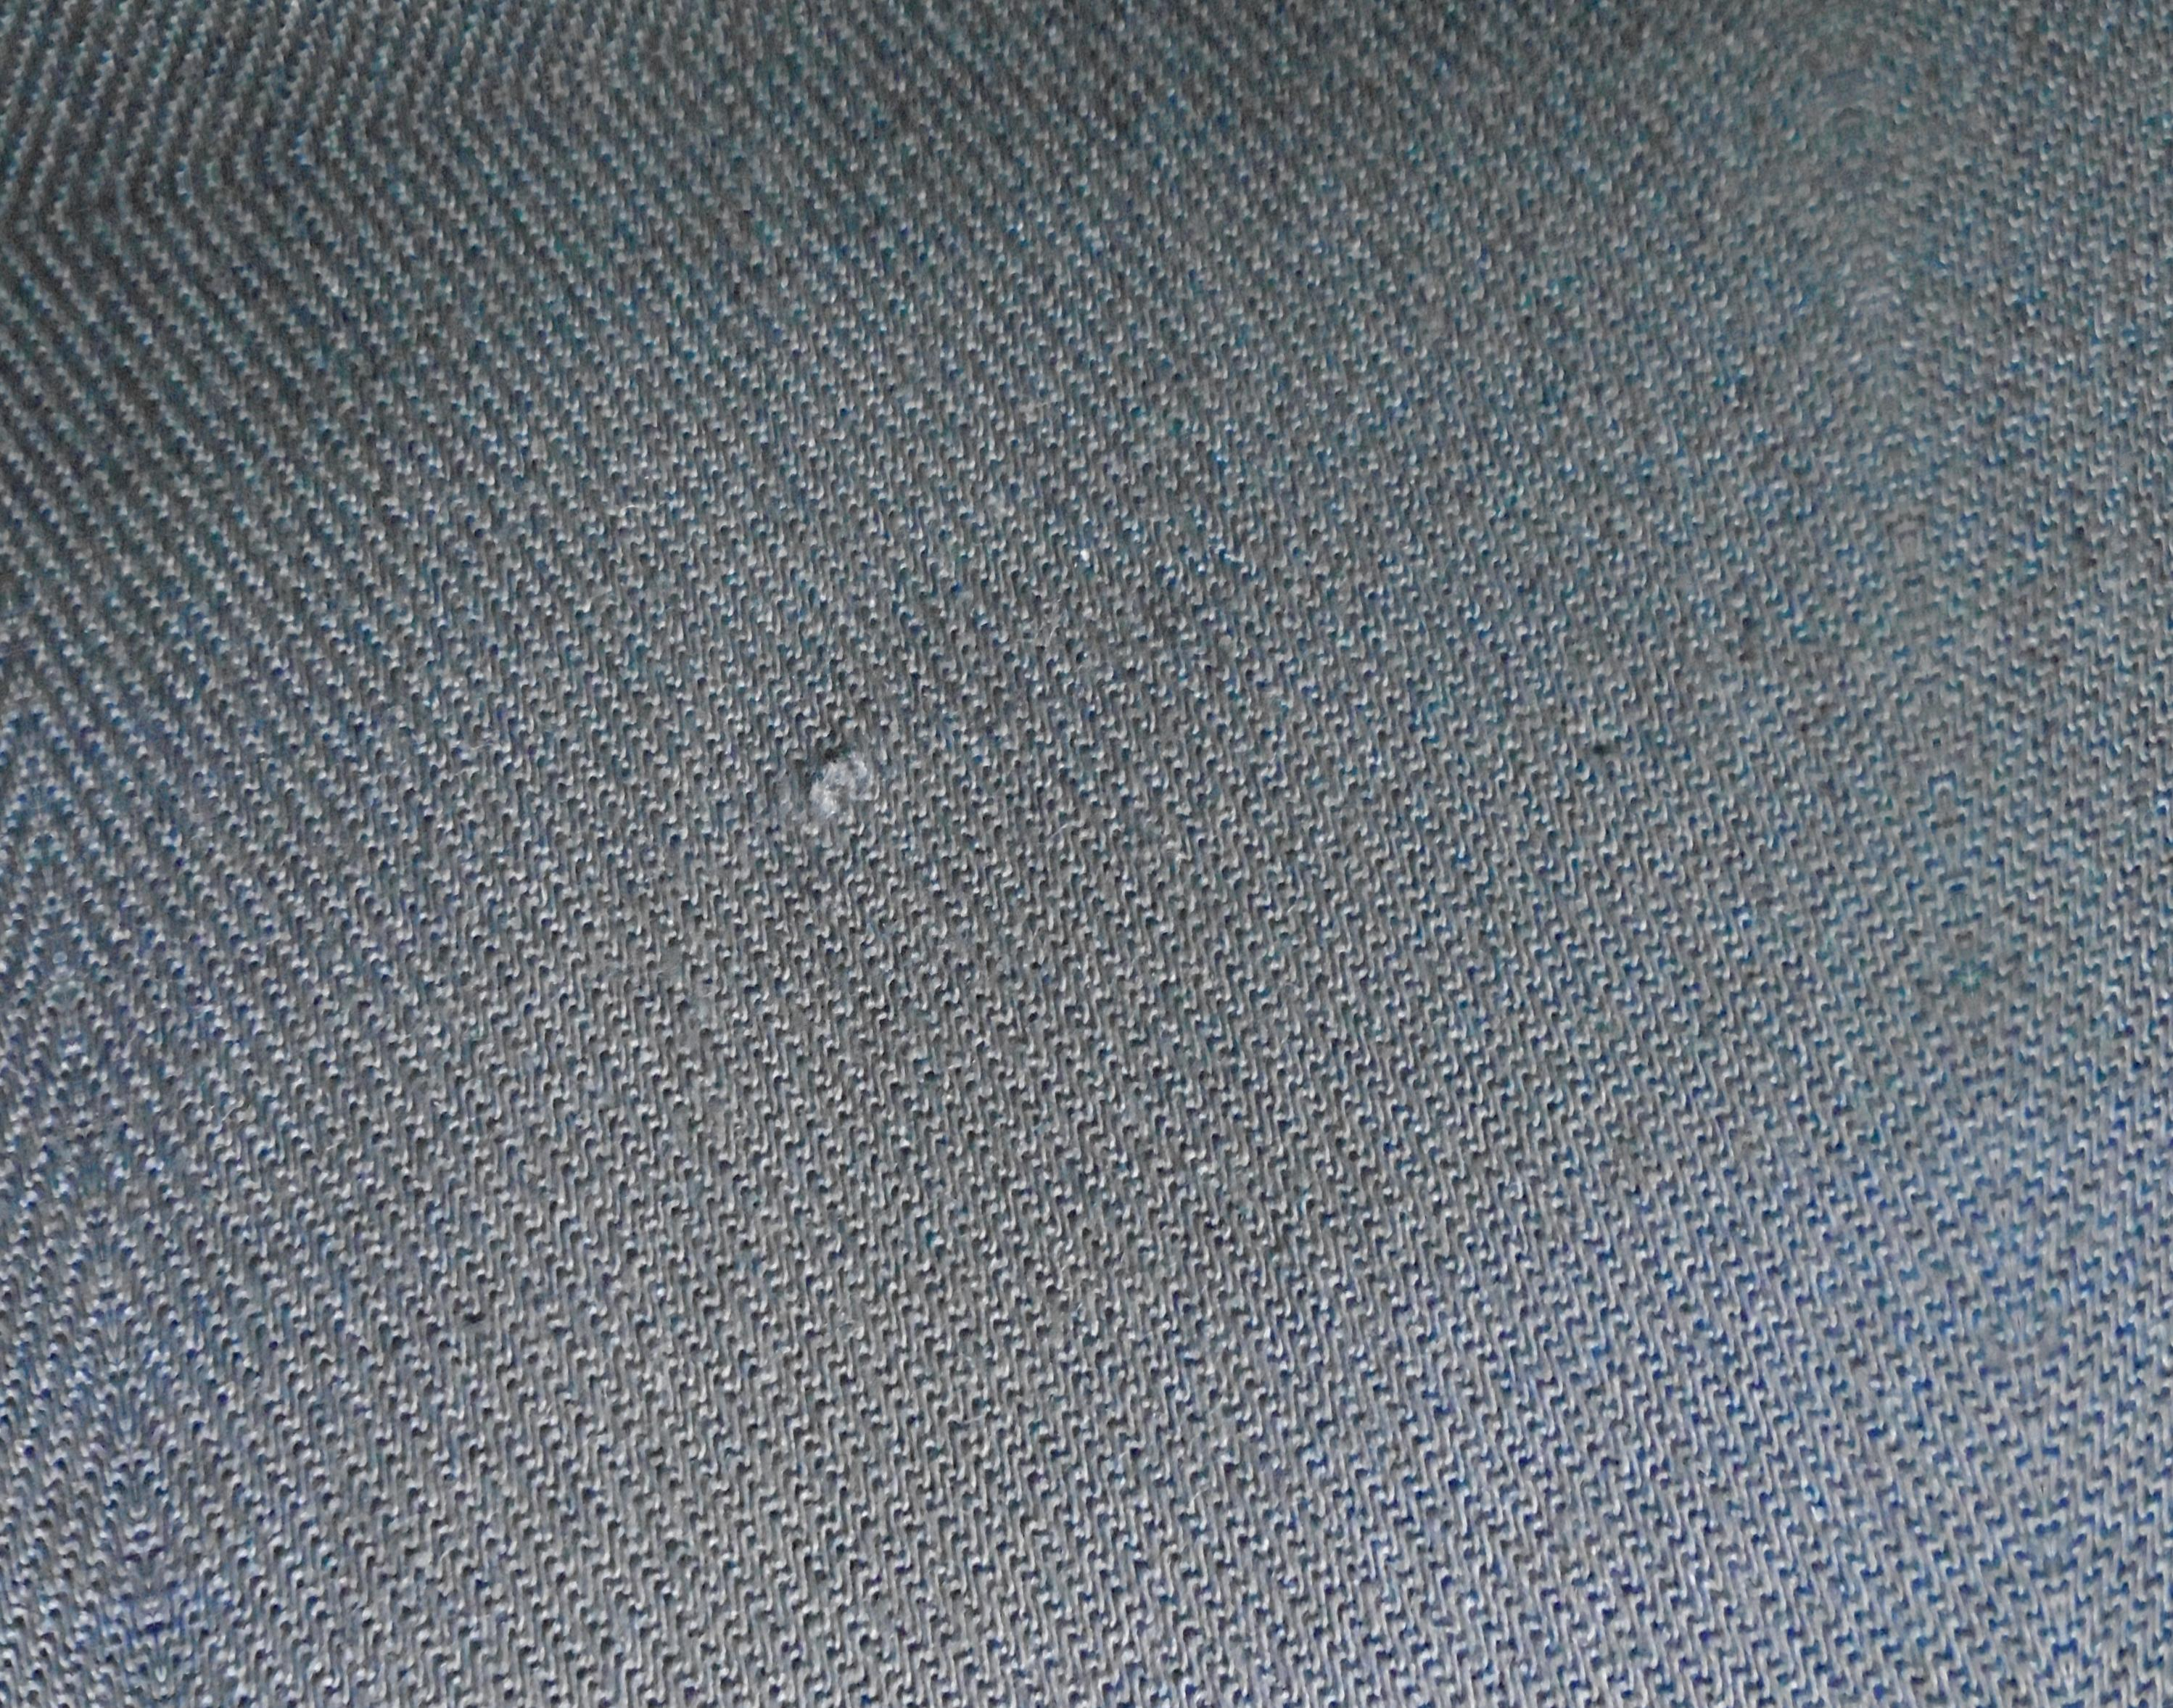knot: (750, 727, 896, 843)
